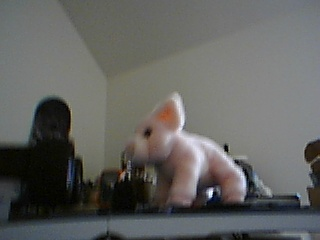piggy: (124, 91, 248, 209)
